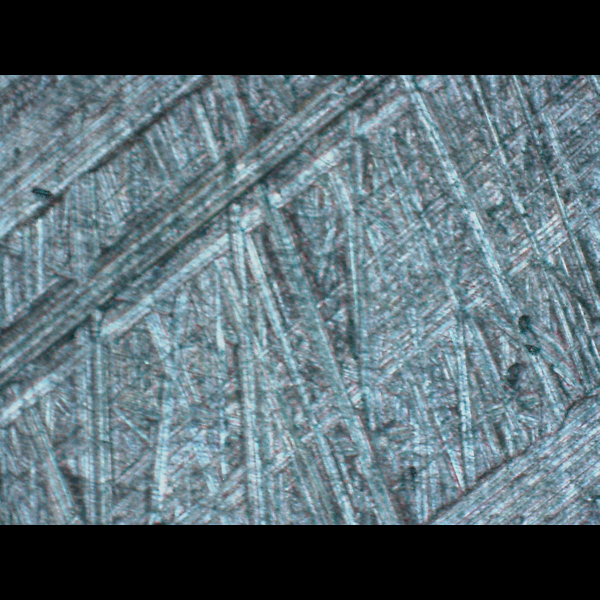d: (0, 74, 444, 444), (413, 386, 599, 524)
